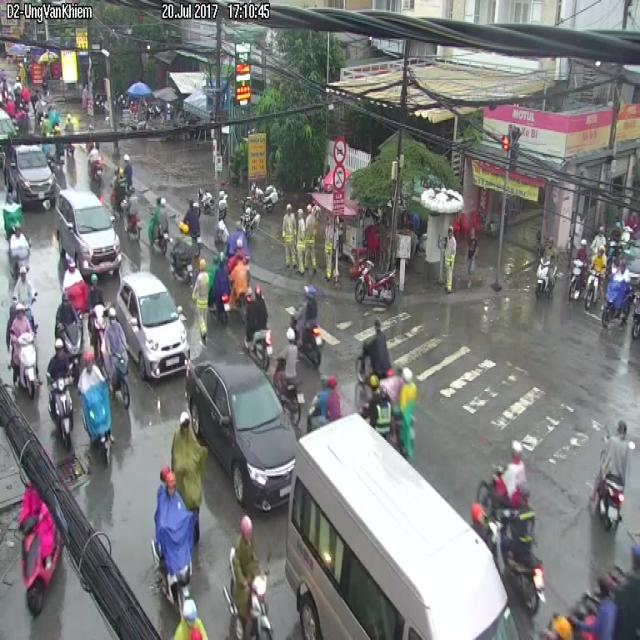car: (154, 467, 197, 609), (46, 341, 72, 449), (8, 307, 39, 397)
traffic-light: (285, 413, 518, 639), (186, 360, 295, 511), (116, 271, 188, 378), (56, 188, 120, 274), (4, 144, 54, 207)
